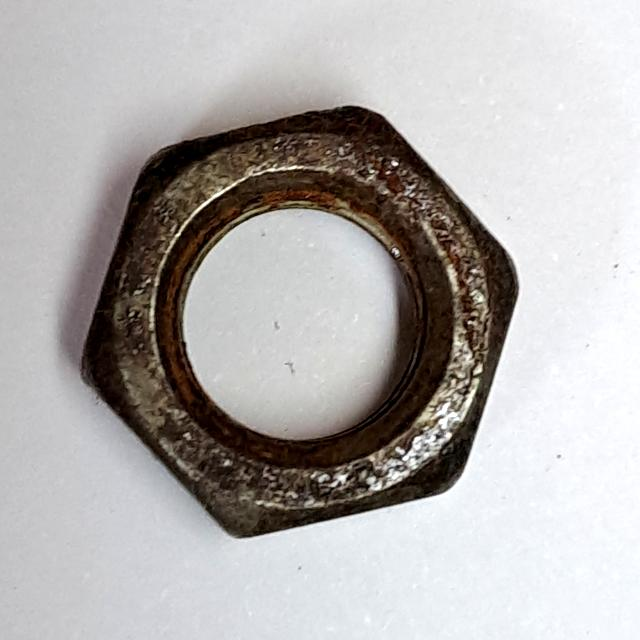Rust: (66, 93, 528, 553)
